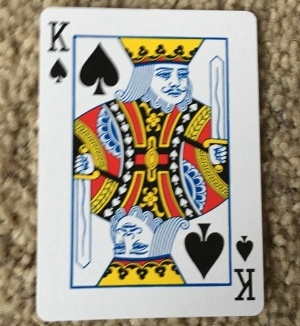card: (34, 5, 265, 321)
